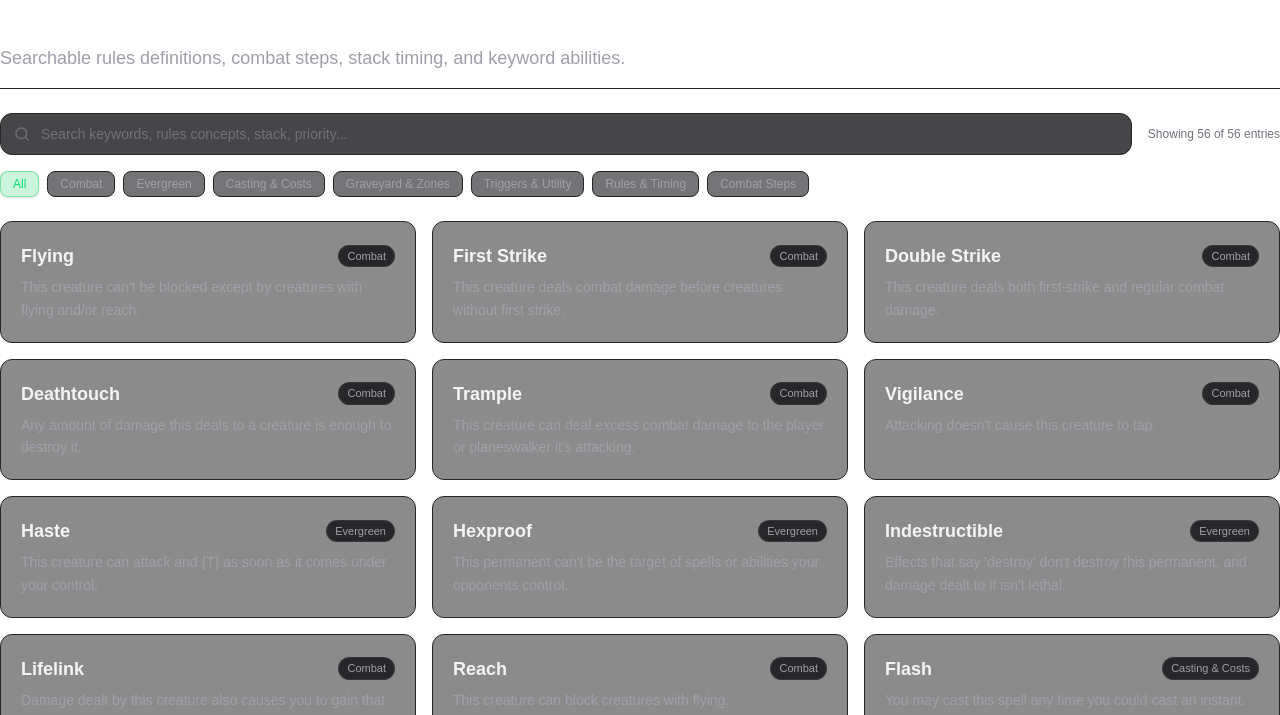
Scenario: KeywordGlossarySection Component › combines category filter and search query
This screenshot has width=1280, height=715.
Click the button "Combat Steps" at [758, 184], box x1=707 y1=171 x2=809 y2=197
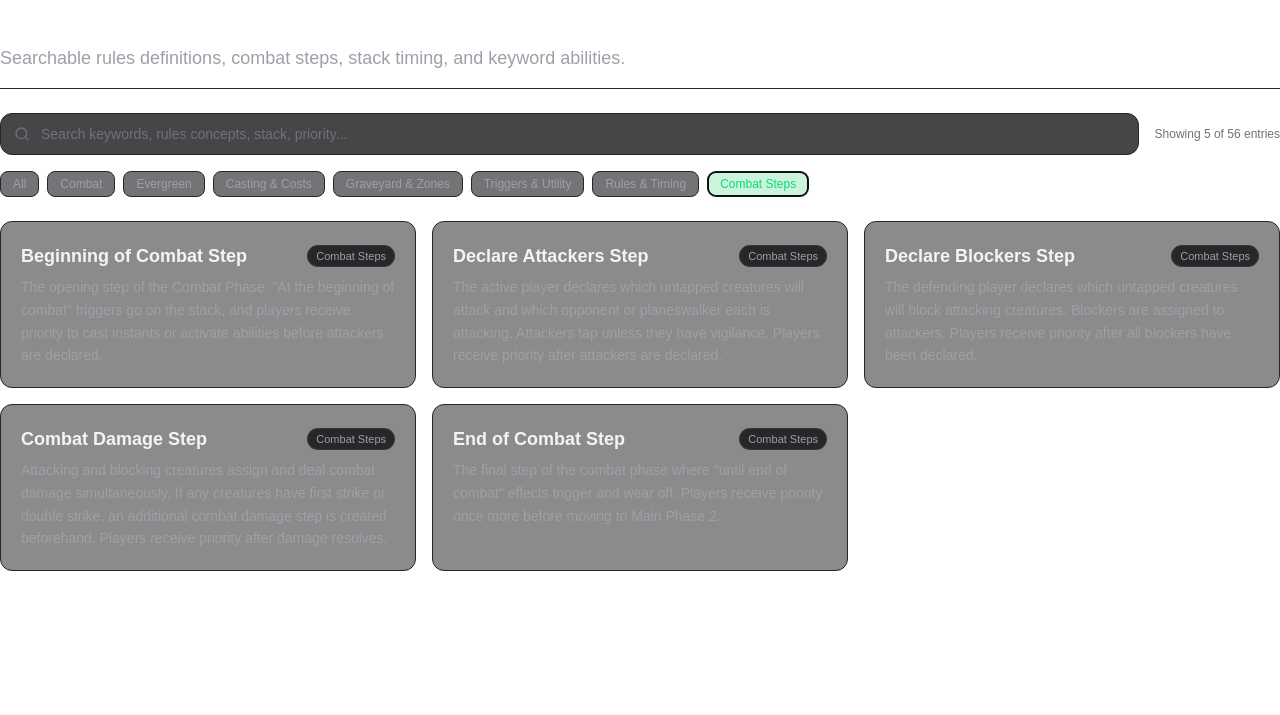
Type "blockers" into the search field named "search glossary" at [569, 134], box x1=0 y1=113 x2=1138 y2=155
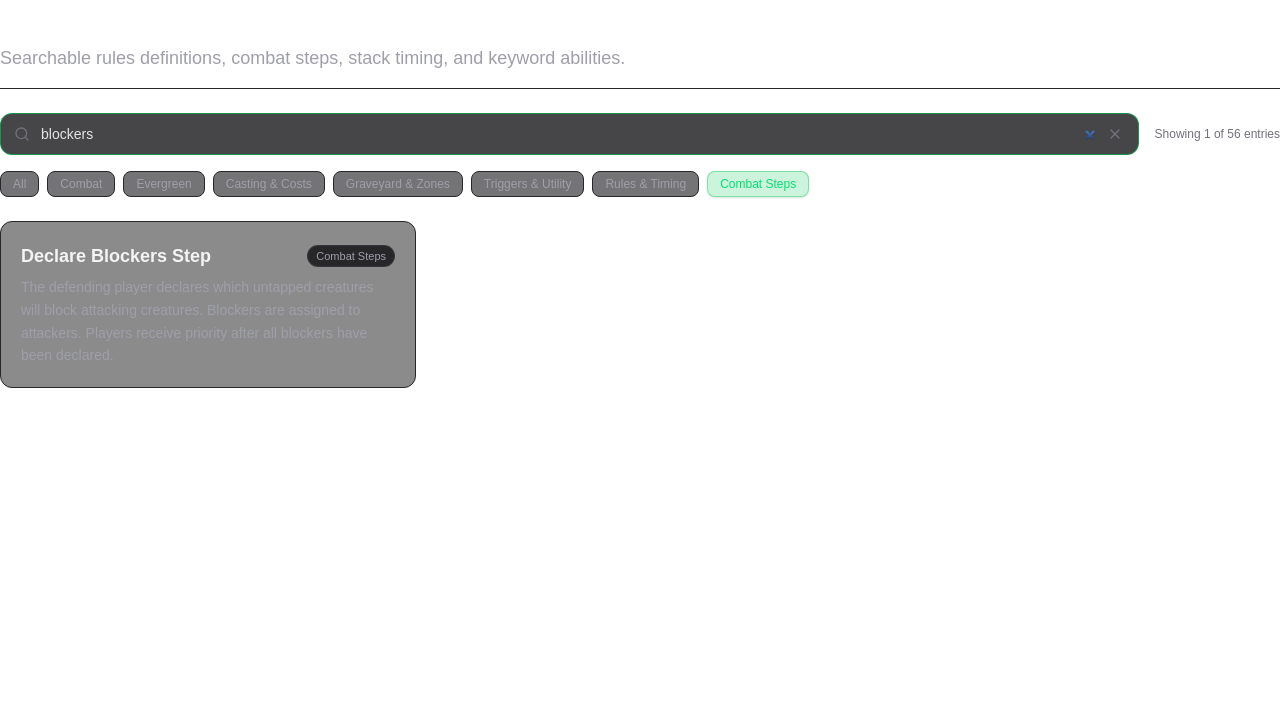
Expected: the heading "Declare Blockers Step" is shown, x1=21 y1=242 x2=211 y2=270
Now the heading "Combat Damage Step" is gone
